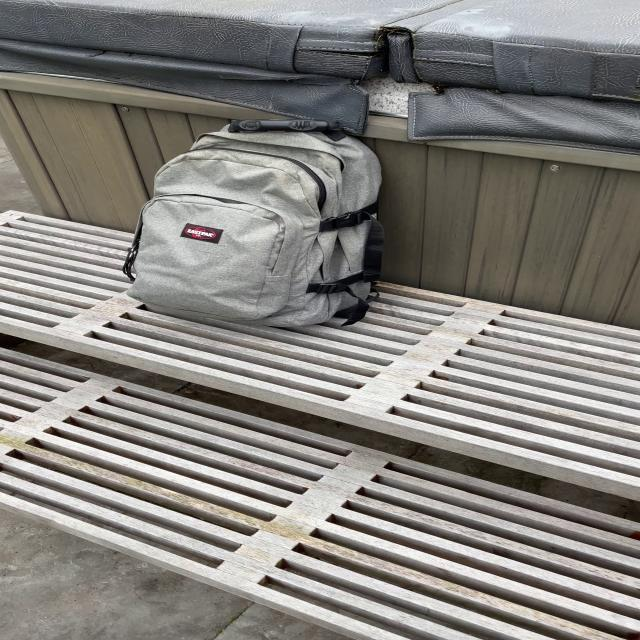backpack: (117, 112, 396, 332)
